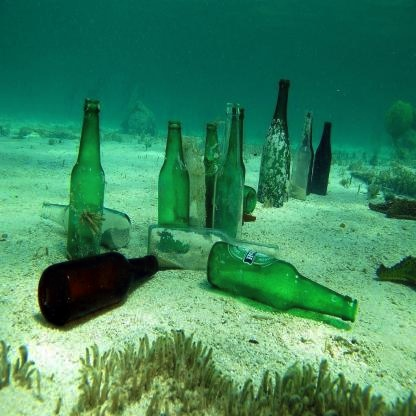gbottle: (208, 242, 356, 325), (37, 252, 160, 328), (147, 223, 280, 270), (67, 99, 104, 262), (38, 200, 132, 250), (215, 106, 247, 240), (258, 74, 290, 208), (157, 122, 189, 252), (183, 137, 205, 226), (292, 108, 312, 202), (204, 124, 222, 227), (312, 121, 332, 197)
